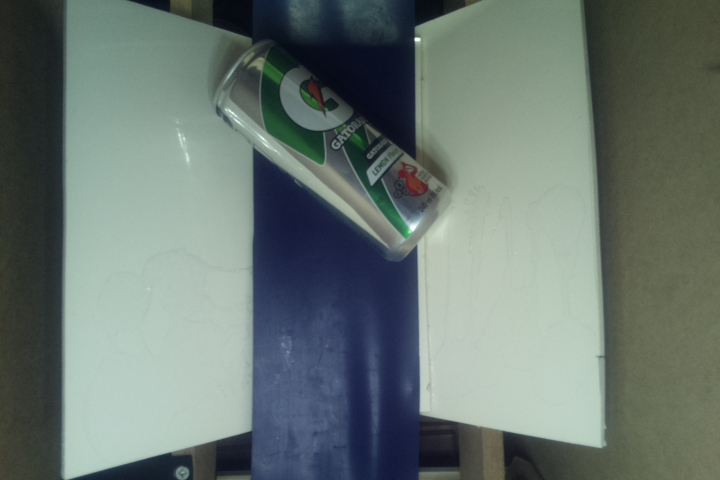can: (213, 39, 452, 261)
